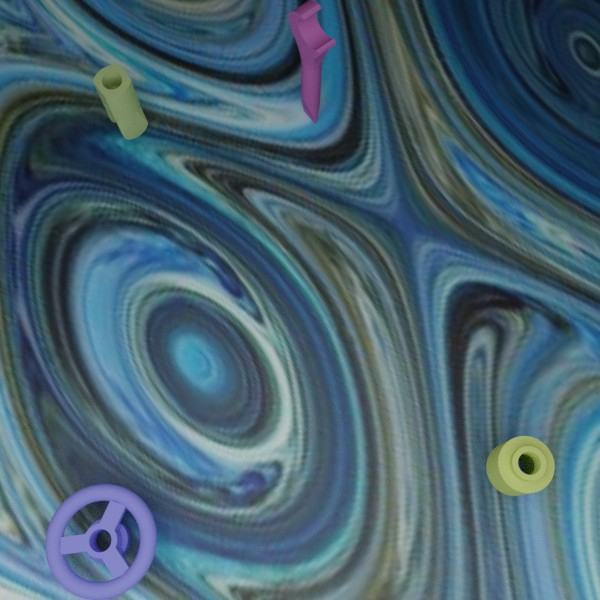lego: (45, 483, 157, 600), (288, 0, 335, 123), (92, 64, 147, 139), (486, 436, 554, 496)
